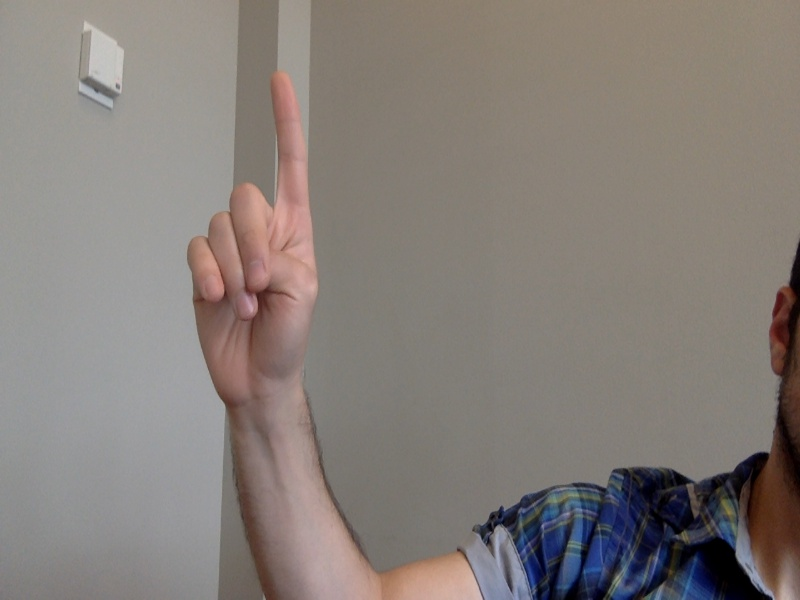1-hand: (185, 68, 320, 409)
